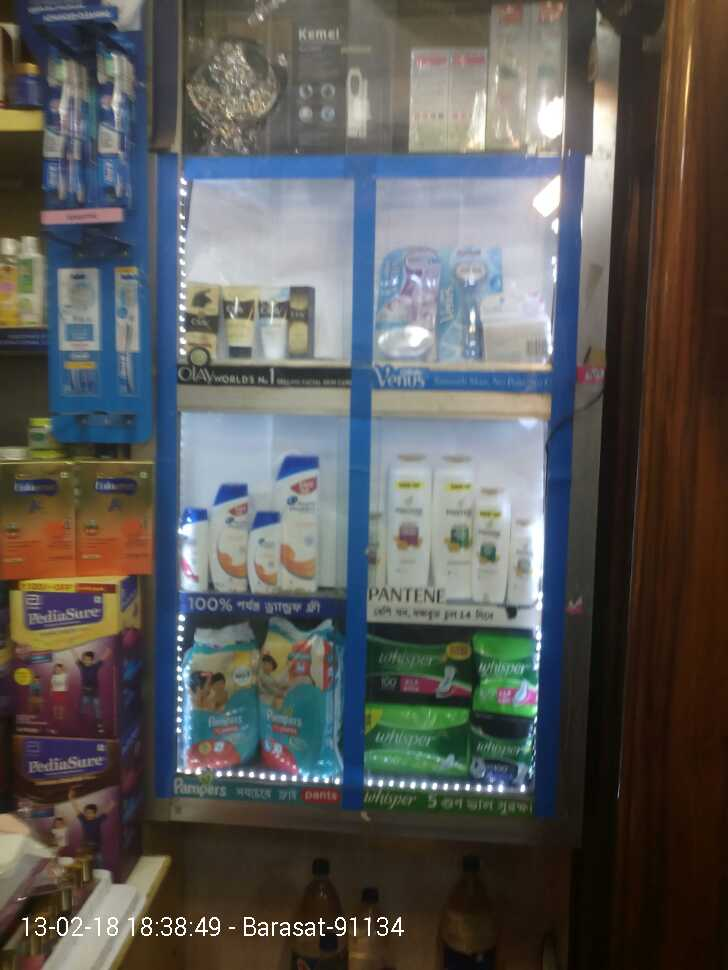venus: (380, 240, 444, 364), (444, 241, 483, 371), (486, 301, 555, 372)
